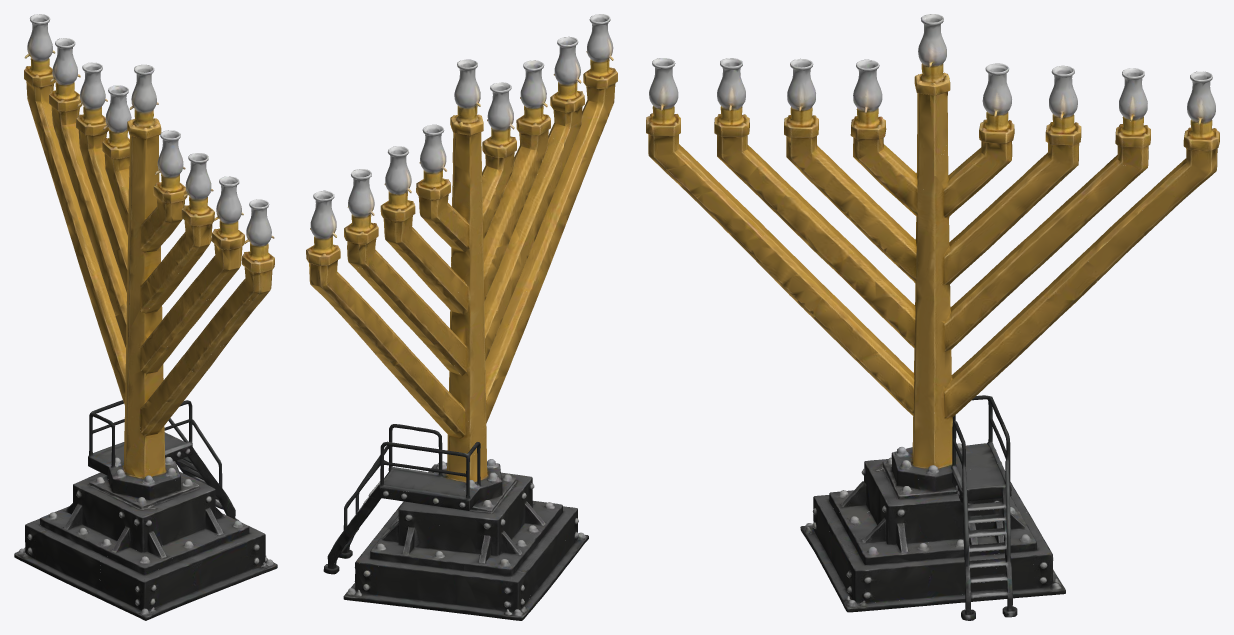
File: lt_menorah_m.glb
3 renders of one model, left to right at view 1: azimuth 30°, elevation 25°; view 2: azimuth 150°, elevation 25°; view 3: azimuth 270°, elevation 25°, orthographic. The views are drawn at different scales.
Visible parts, largest first — view 1: tripo_node_49851674-09bb-4e78-ad4d-b837b3bcf8df; view 2: tripo_node_49851674-09bb-4e78-ad4d-b837b3bcf8df; view 3: tripo_node_49851674-09bb-4e78-ad4d-b837b3bcf8df.
Boxes of the visible parts, x1,y1,x2,y2 form: tripo_node_49851674-09bb-4e78-ad4d-b837b3bcf8df: [14, 14, 277, 620]; tripo_node_49851674-09bb-4e78-ad4d-b837b3bcf8df: [306, 14, 617, 620]; tripo_node_49851674-09bb-4e78-ad4d-b837b3bcf8df: [646, 14, 1219, 620].
Bounding box in the file's own units: 0.4284 × 1 × 0.9566.
Materials: 1 (1 with a texture image).
